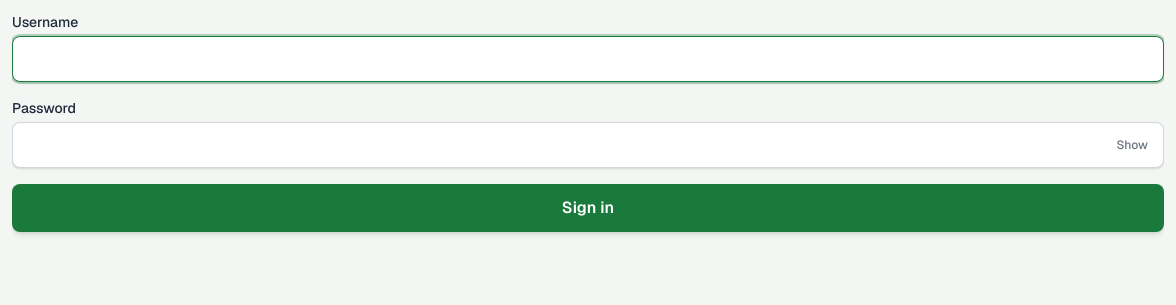
the organiser login form › shows the rate-limit message the same way
Type "organiser" into the field labelled "Username".
click(588, 59); type("organiser")  # box [12,36,1164,82]
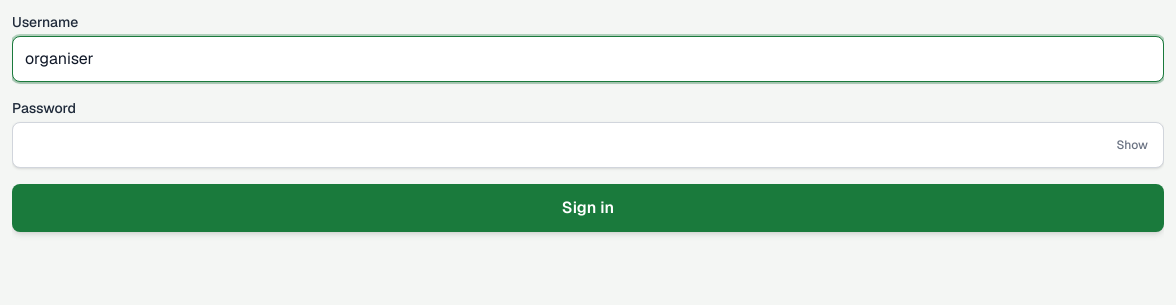
Type "guess" into the password field labelled "Password".
click(588, 145); type("guess")  # box [12,122,1164,168]
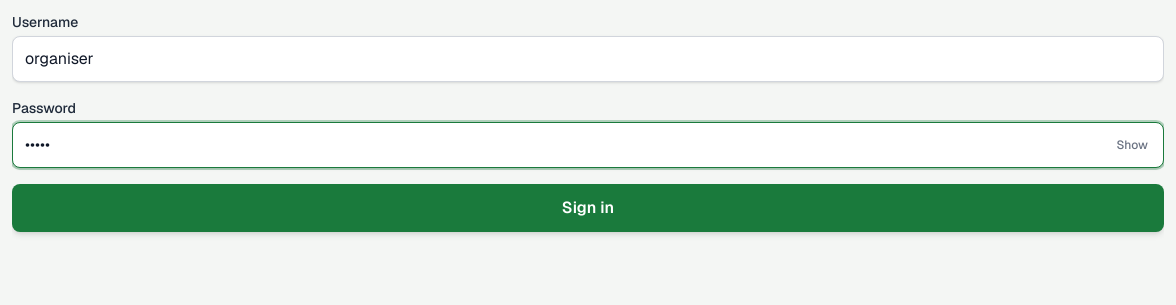
Click the button "Sign in".
click(588, 208)  # box [12,184,1164,232]
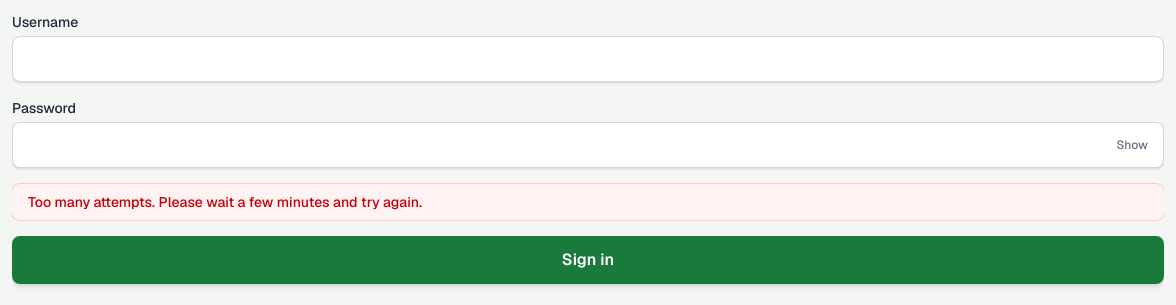
Expected: the message shows "Too many attempts", [28,193,422,211]
